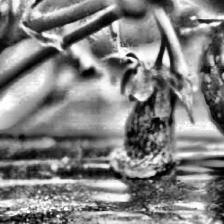Gray Mold: (104, 46, 194, 181)
